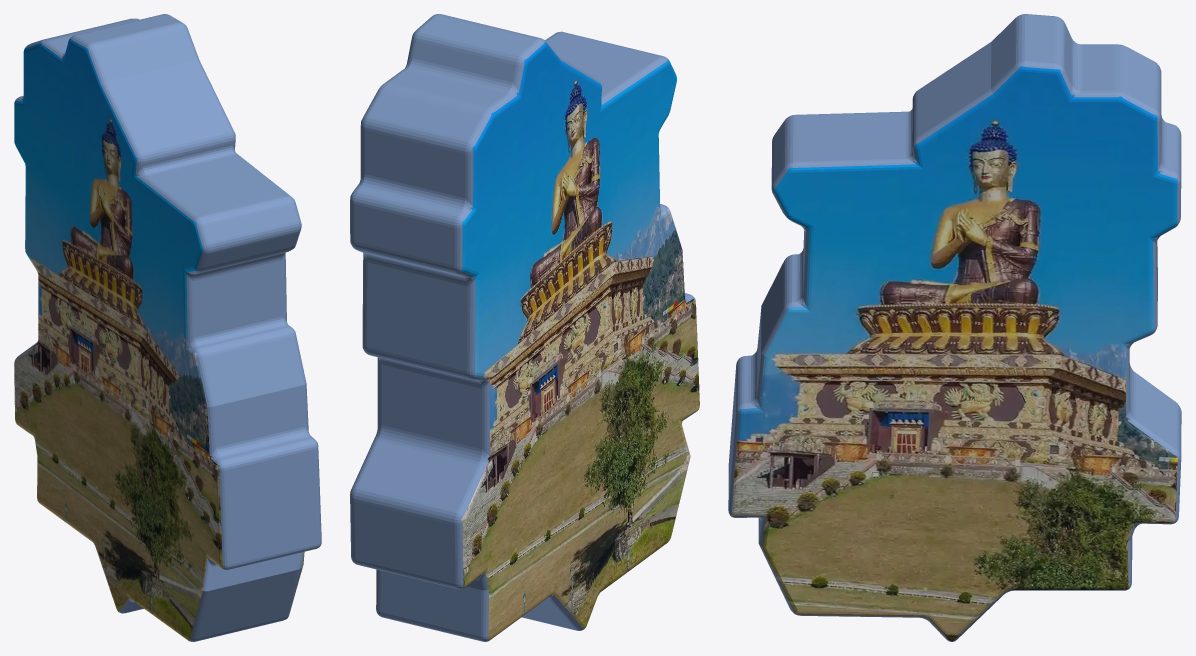
The model's file is sikkim.glb.
3 renders of one model, left to right at view 1: azimuth 30°, elevation 25°; view 2: azimuth 150°, elevation 25°; view 3: azimuth 270°, elevation 25°, orthographic. The views are drawn at different scales.
Visible parts, largest first — view 1: Object_36; view 2: Object_36; view 3: Object_36.
Part boxes in pixels (x1,y1,x2,y2): Object_36: [14, 14, 321, 641]; Object_36: [350, 14, 699, 641]; Object_36: [728, 14, 1181, 641].
Size of the model in its own units: 0.0359 by 0.1738 by 0.1227.
Materials: 1 (1 with a texture image).
